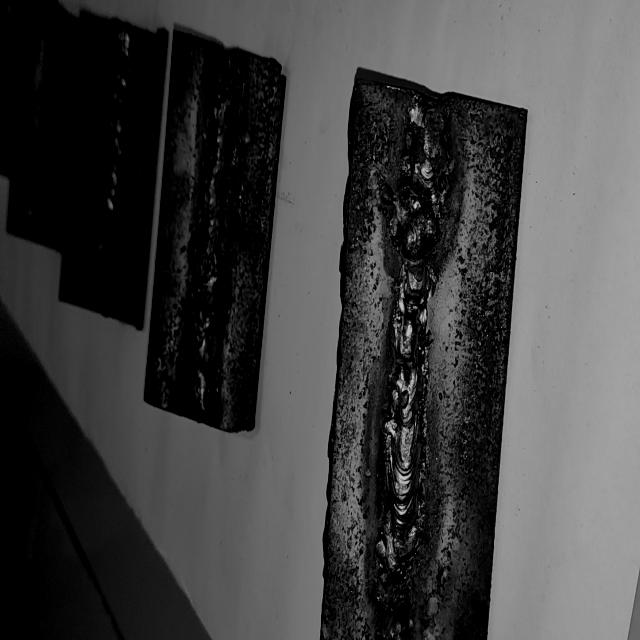Bad Weld: (378, 90, 438, 640), (185, 46, 236, 423)
Defect: (392, 96, 449, 283), (387, 257, 433, 389), (373, 528, 417, 640), (205, 48, 240, 172)
Good Weld: (92, 22, 134, 315), (28, 7, 61, 243)
